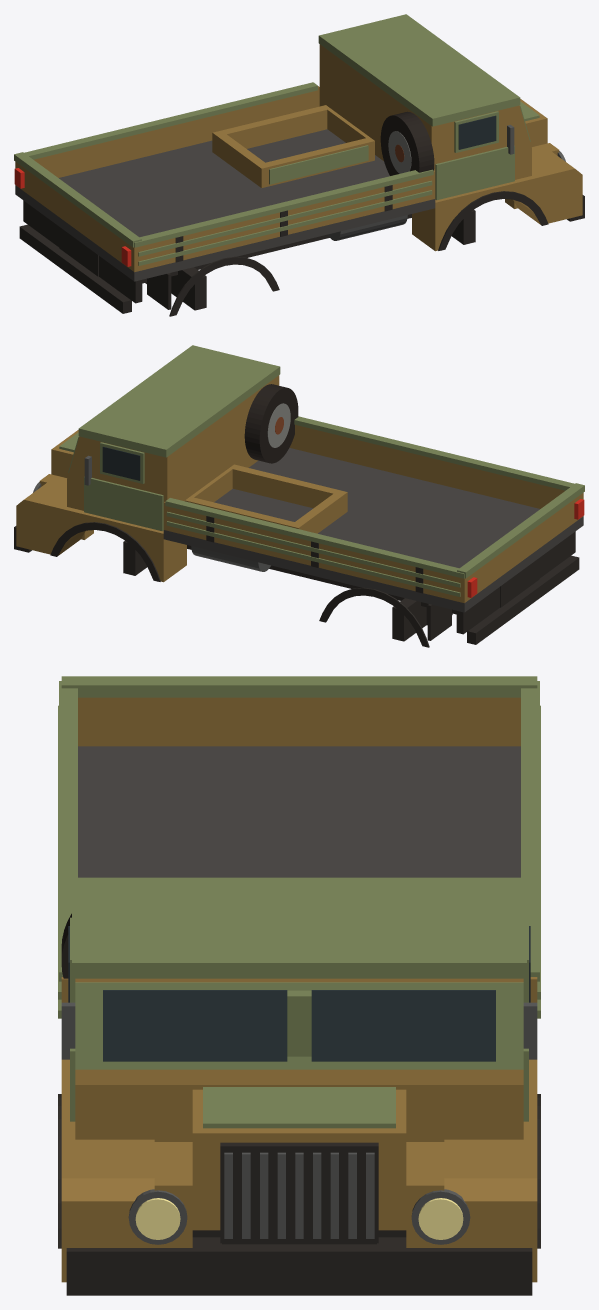
File: base_wagon.glb
3 views of the same model, one above another, from view 1: azimuth 30°, elevation 25°; view 2: azimuth 150°, elevation 25°; view 3: azimuth 270°, elevation 25° (orthographic). The views are drawn at different scales.
Parts seen in each view (by area): view 1: base_wagon; view 2: base_wagon; view 3: base_wagon.
Boxes of the visible parts, x1=… form: base_wagon: x1=14, y1=14, x2=584, y2=316; base_wagon: x1=14, y1=345, x2=584, y2=647; base_wagon: x1=58, y1=676, x2=540, y2=1295.
Bounding box in the file's own units: 6.1 × 1.97 × 2.8.
